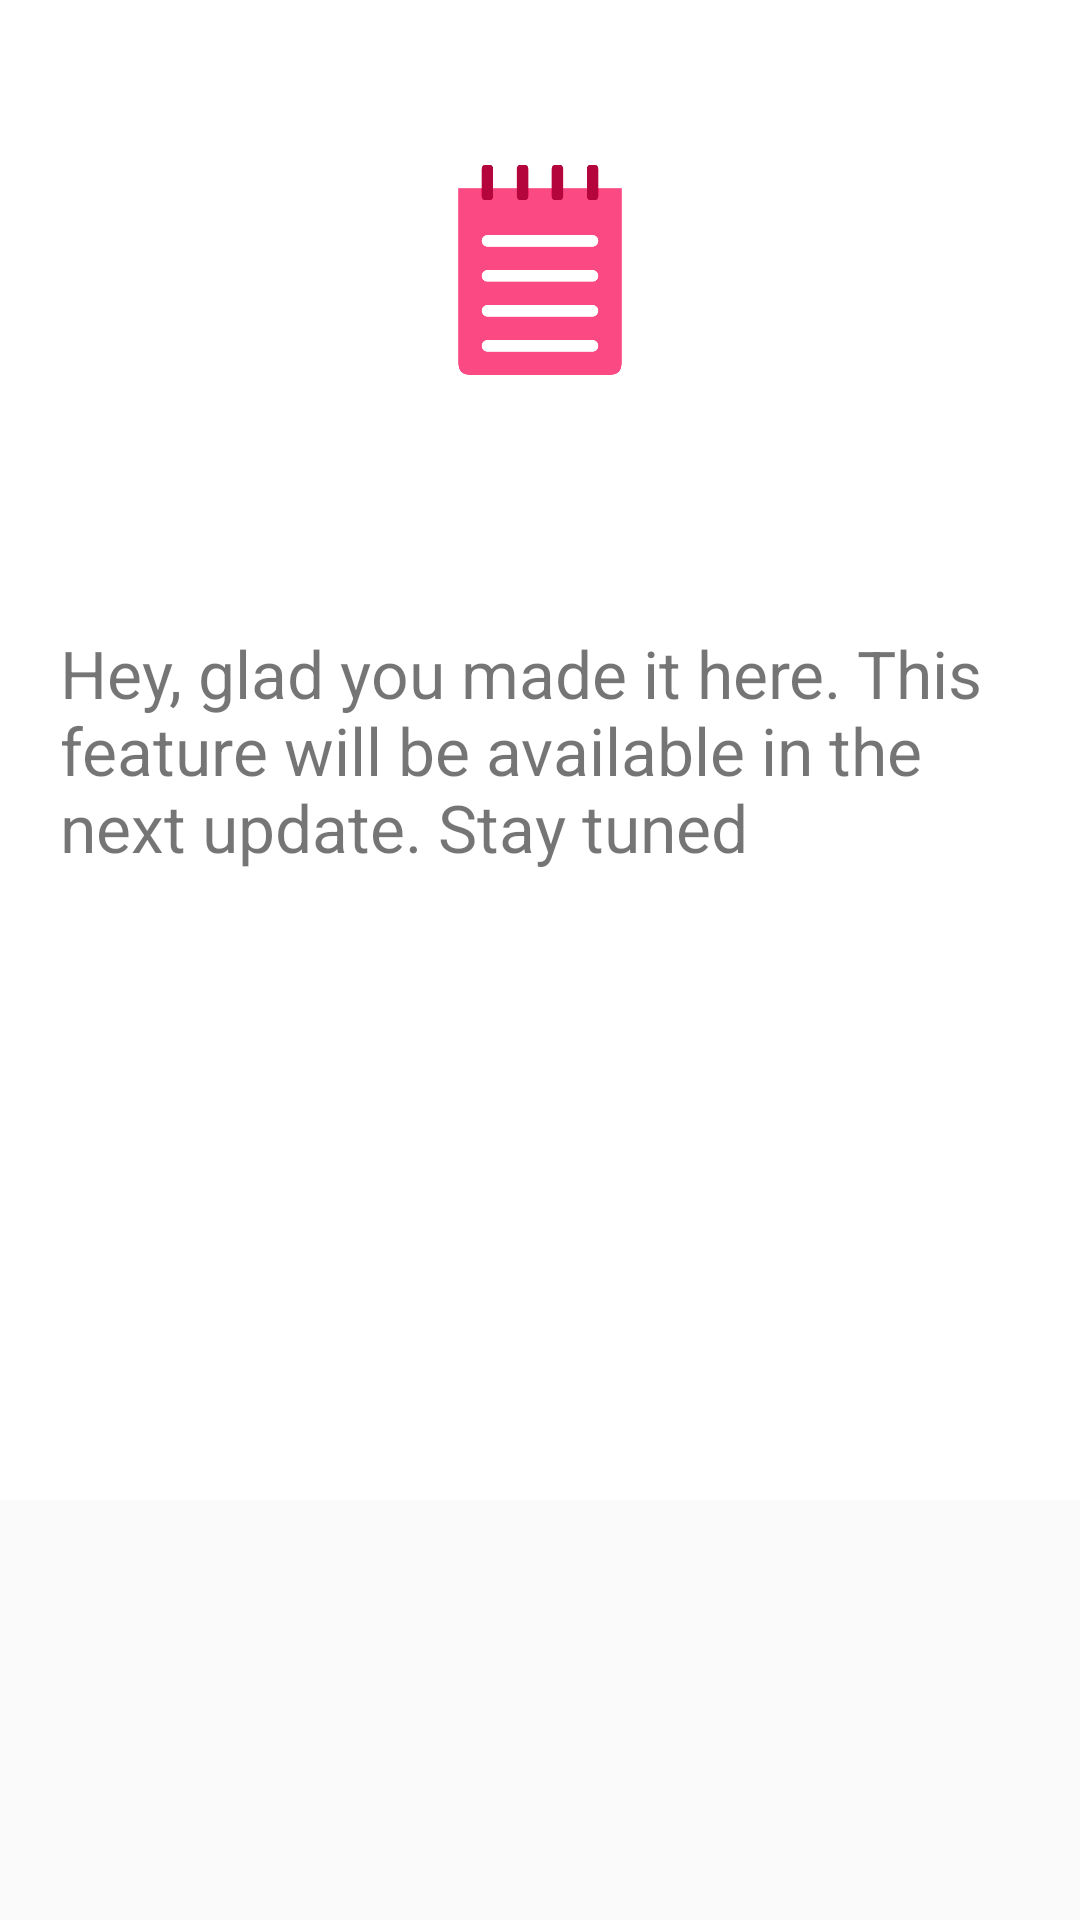

Point at icon controls on the screen. Image size 1080x1920, points as point (x, y).
task io: point (540, 270)
